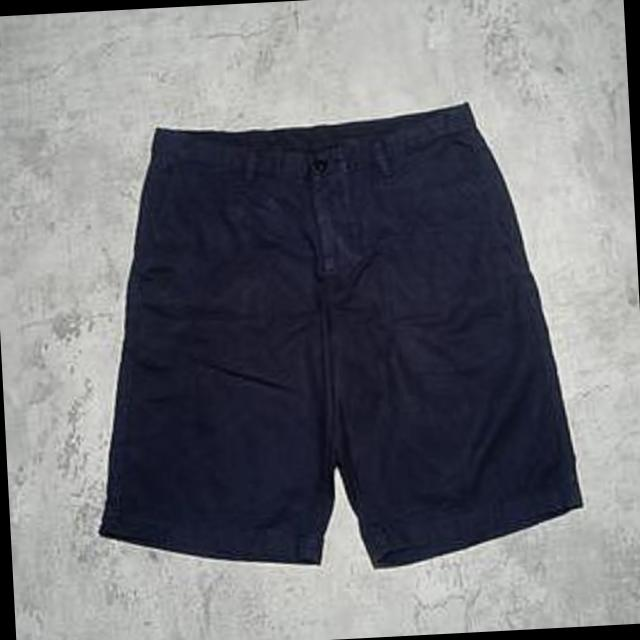SHORT: (75, 92, 608, 598)
